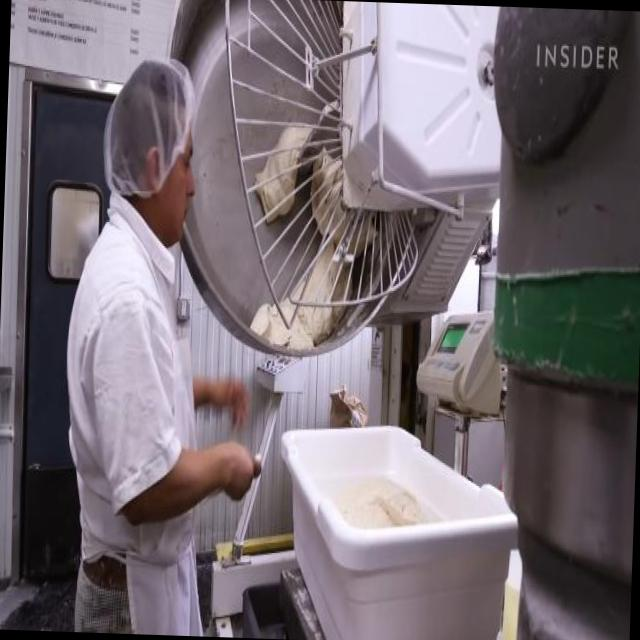hairnet: (100, 58, 194, 181)
